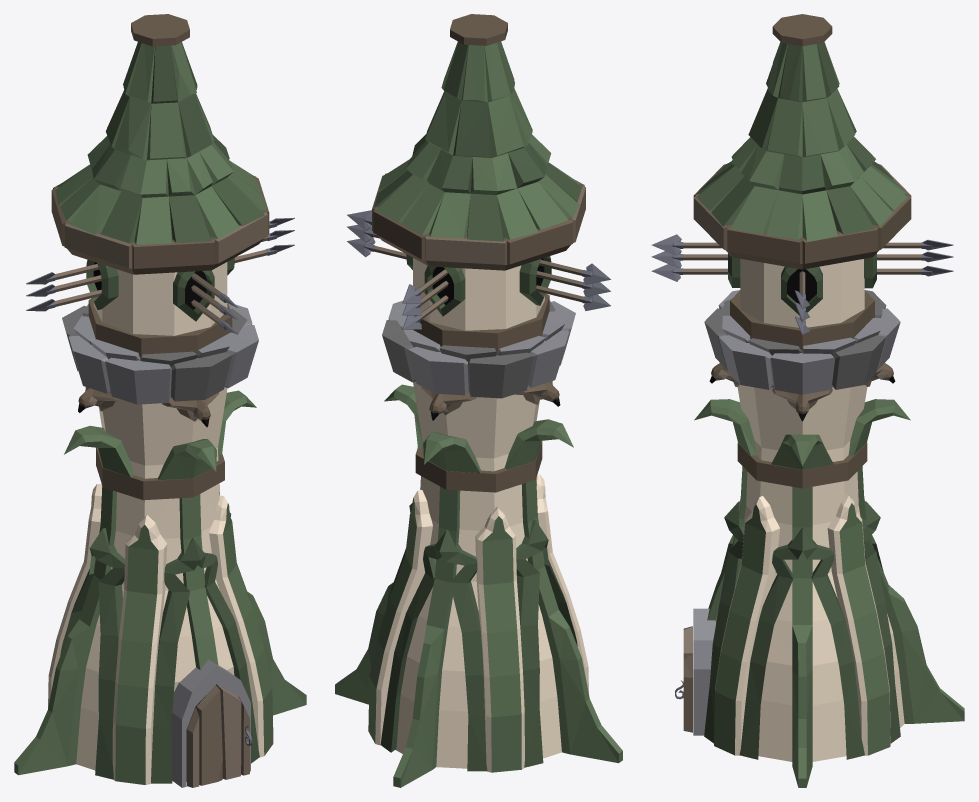
File: _archer_tower_LVL_3.fbx
3 renders of one model, left to right at view 1: azimuth 30°, elevation 25°; view 2: azimuth 150°, elevation 25°; view 3: azimuth 270°, elevation 25°, orthographic. The views are drawn at different scales.
Parts seen in each view (by area): view 1: archer_tower_LVL_3; view 2: archer_tower_LVL_3; view 3: archer_tower_LVL_3.
Part boxes in pixels (left/top/right/bottom): archer_tower_LVL_3: left=14, top=14, right=306, bottom=787; archer_tower_LVL_3: left=335, top=14, right=622, bottom=787; archer_tower_LVL_3: left=651, top=14, right=964, bottom=787.
Size of the model in its own units: 639 by 1507 by 617.
